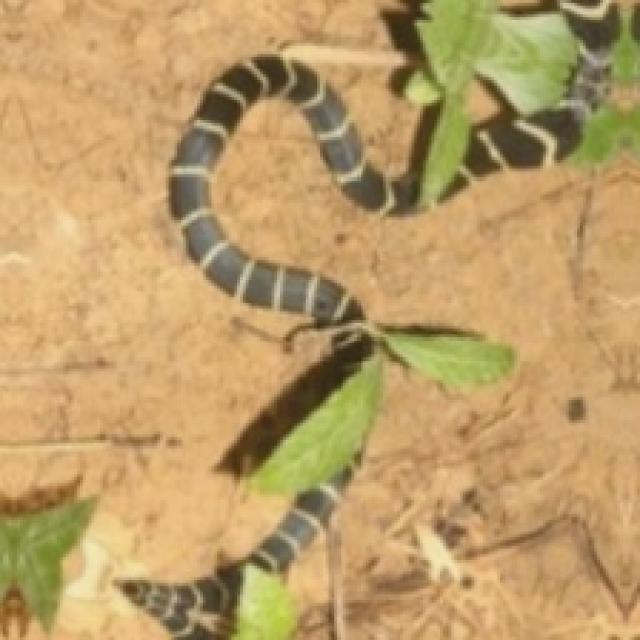king cobra: (117, 0, 637, 637)
